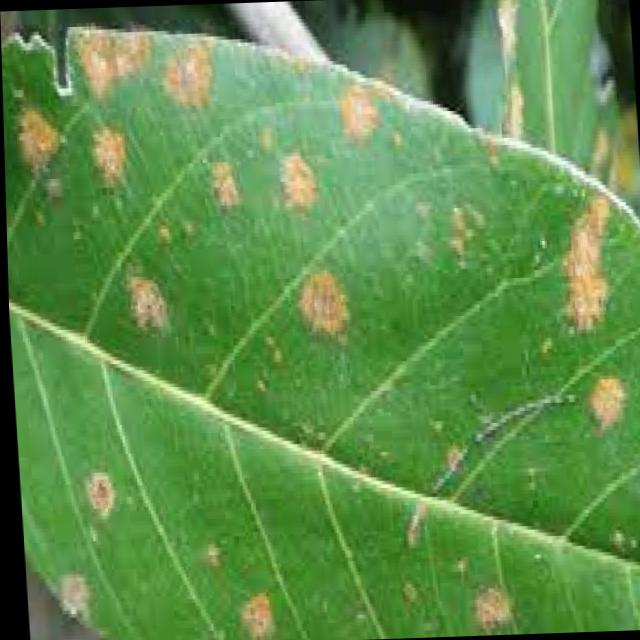Algal Leaf Spot: (551, 174, 616, 343), (73, 12, 154, 93), (160, 15, 221, 104), (9, 93, 68, 184), (69, 113, 133, 194), (119, 262, 167, 356), (295, 259, 350, 339), (273, 138, 321, 218), (333, 82, 380, 160), (200, 150, 249, 224), (461, 564, 512, 631), (585, 377, 631, 440), (81, 462, 120, 536), (231, 591, 284, 640), (57, 566, 100, 622)
